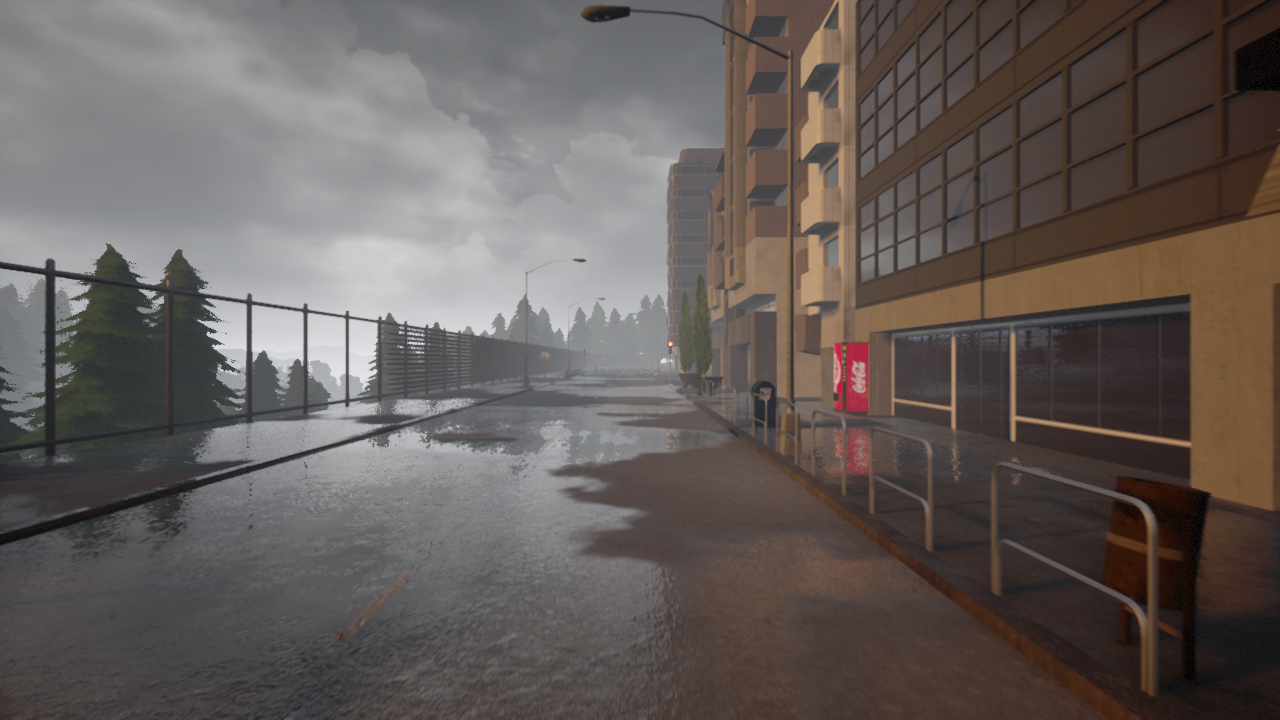red: (667, 340, 672, 354)
